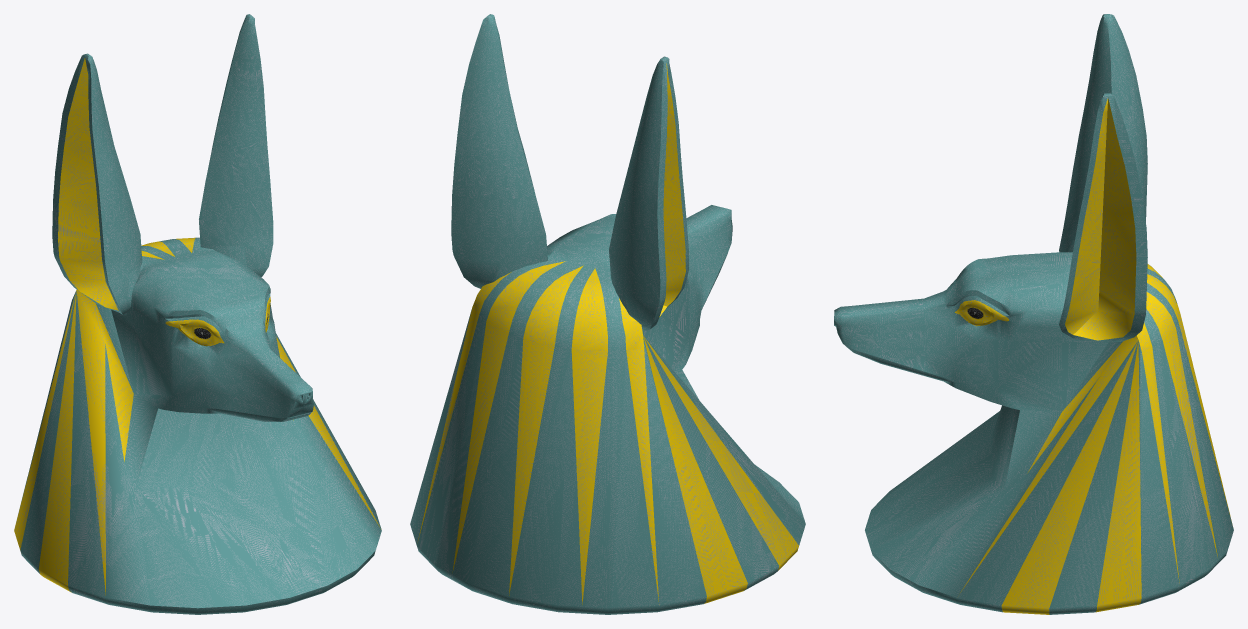
Rendered from jackal head.dae.
3 renders of one model, left to right at view 1: azimuth 30°, elevation 25°; view 2: azimuth 150°, elevation 25°; view 3: azimuth 270°, elevation 25°, orthographic. The views are drawn at different scales.
Parts seen in each view (by area): view 1: group_0 (×7); view 2: group_0 (×9); view 3: group_0 (×8).
Boxes of the visible parts, x1,y1,x2,y2 form: group_0 (×7): (14,14,381,614); group_0 (×9): (410,14,805,614); group_0 (×8): (834,14,1233,614).
Bounding box in the file's own units: 47.24 × 51.17 × 68.73.
